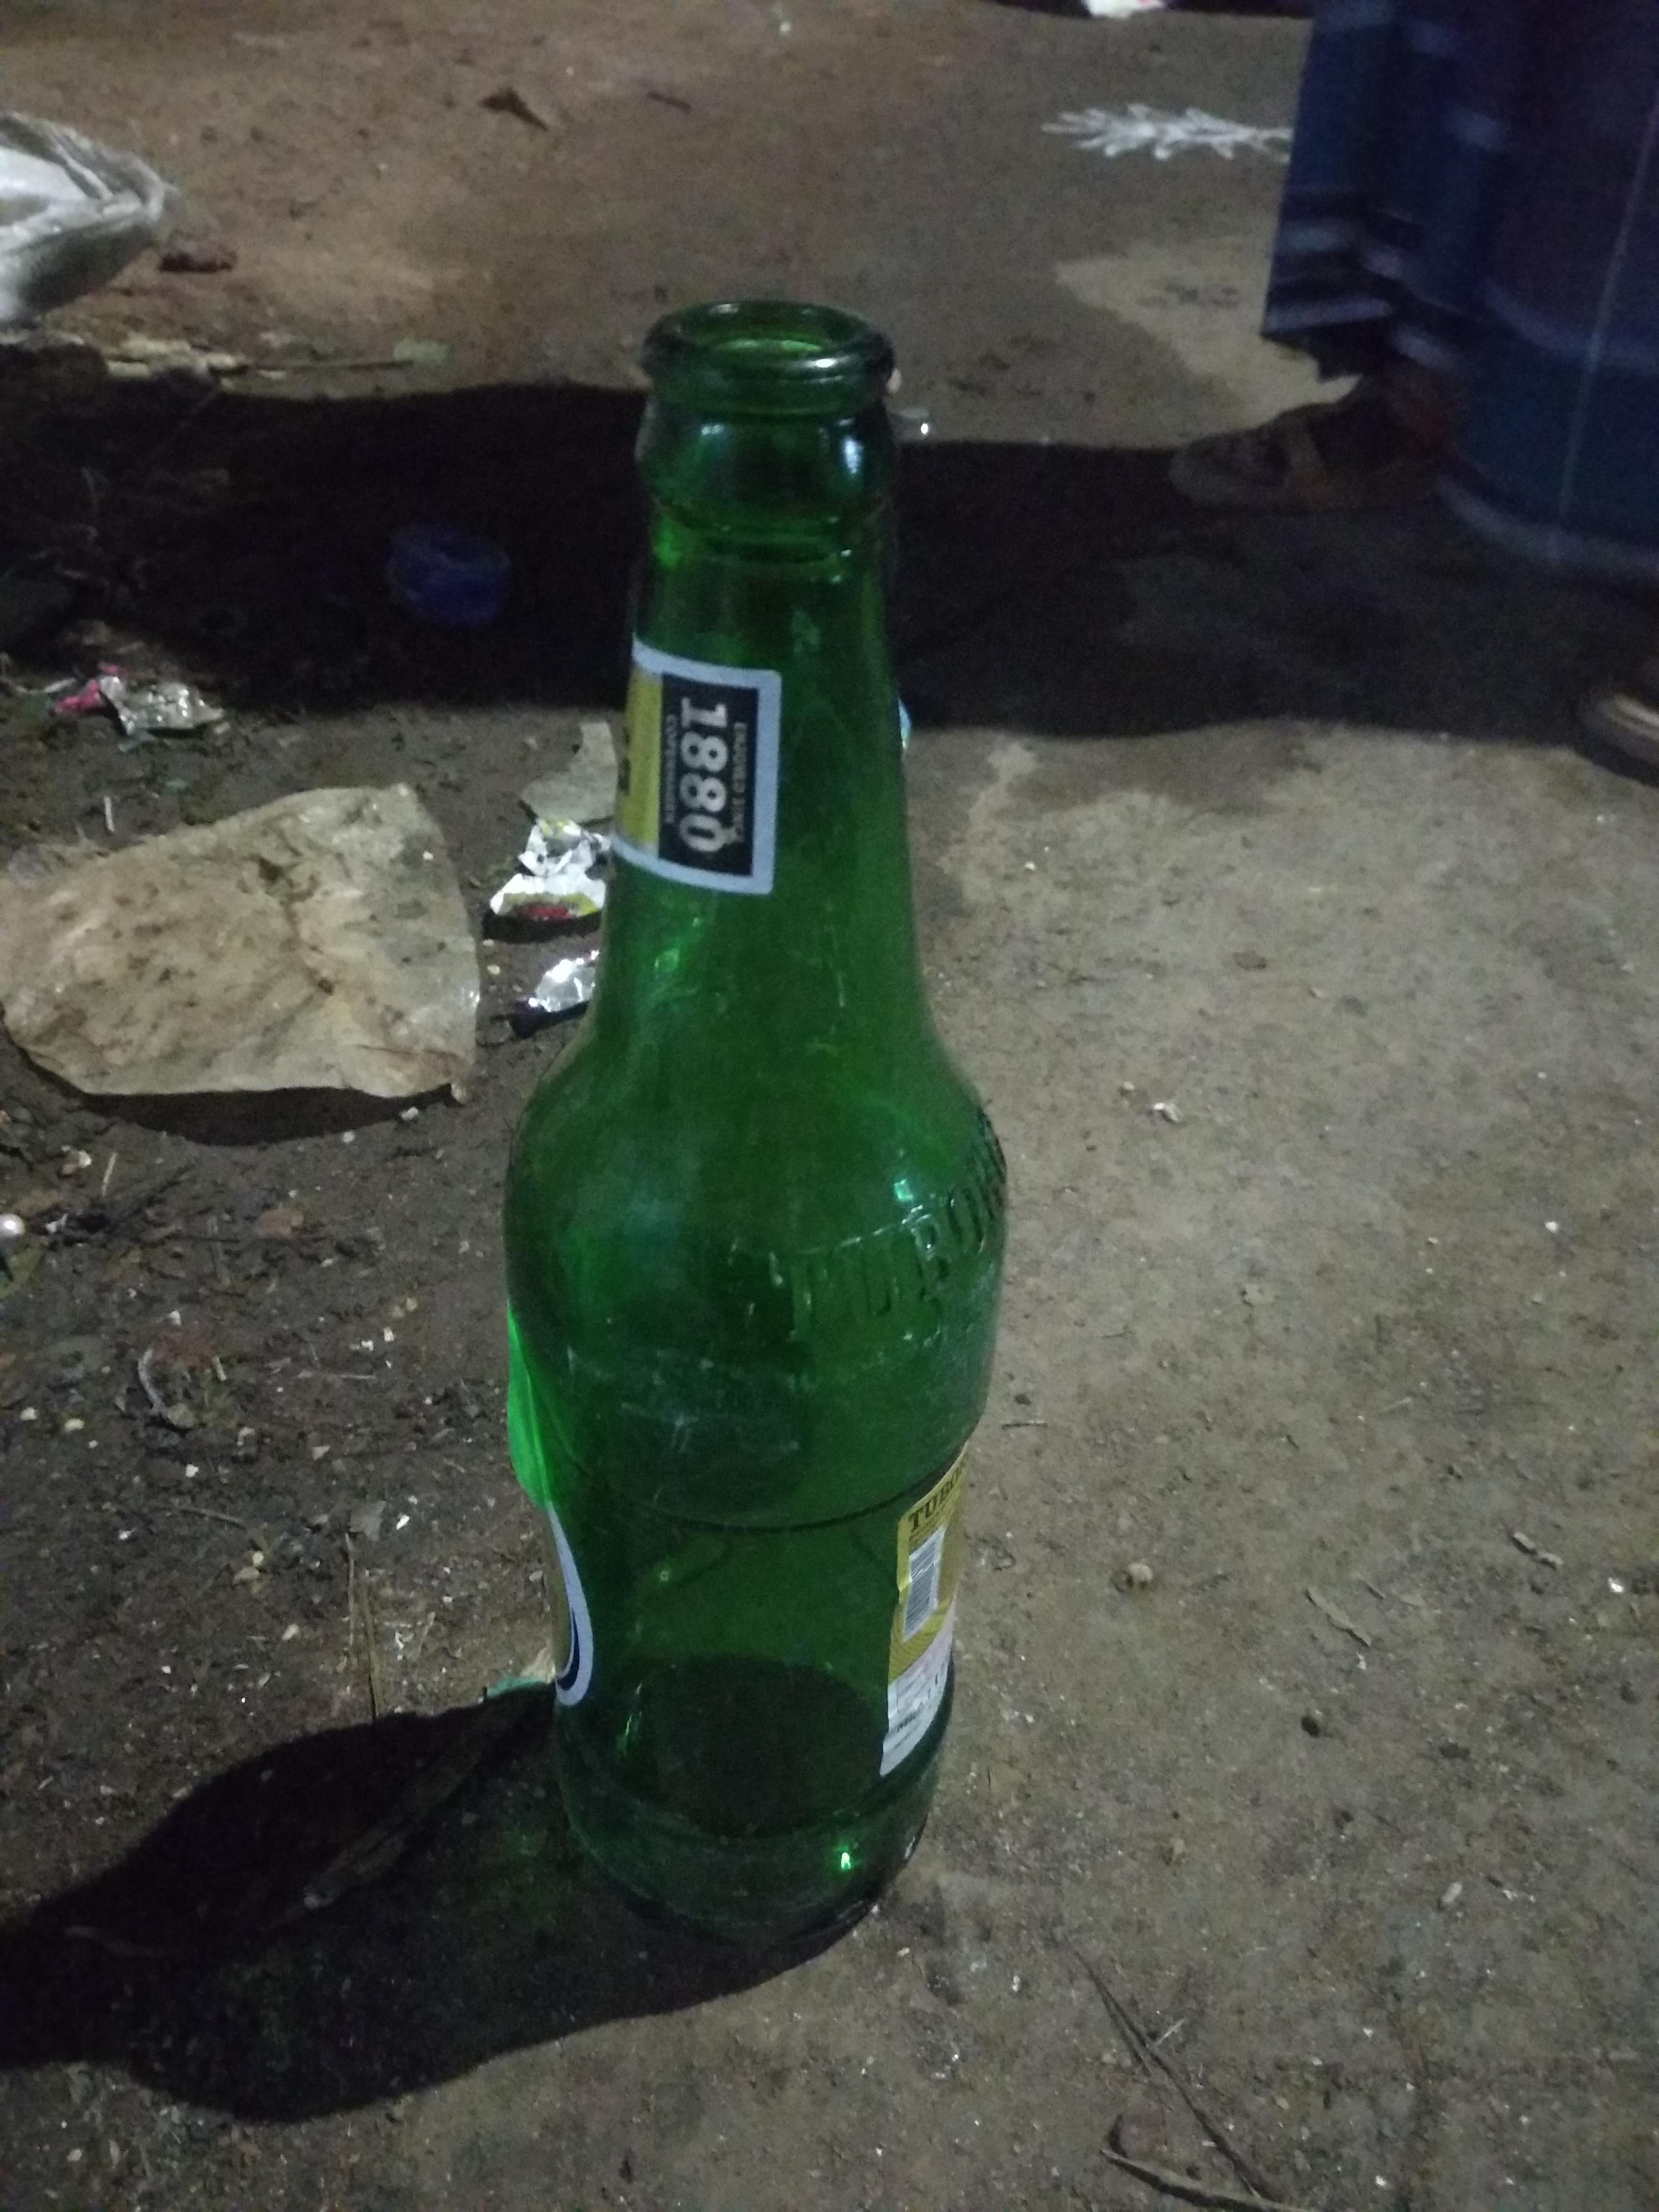trash: (488, 280, 1025, 1979)
